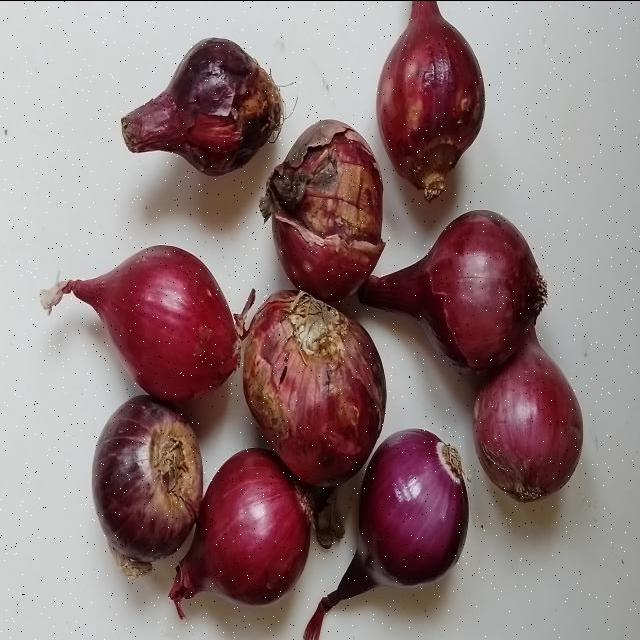Onion: (304, 428, 469, 638), (359, 208, 548, 370), (243, 289, 386, 485), (64, 245, 238, 400), (169, 447, 310, 618), (260, 118, 384, 300), (121, 36, 282, 174), (377, 0, 485, 199), (92, 395, 202, 577), (474, 329, 584, 502)
